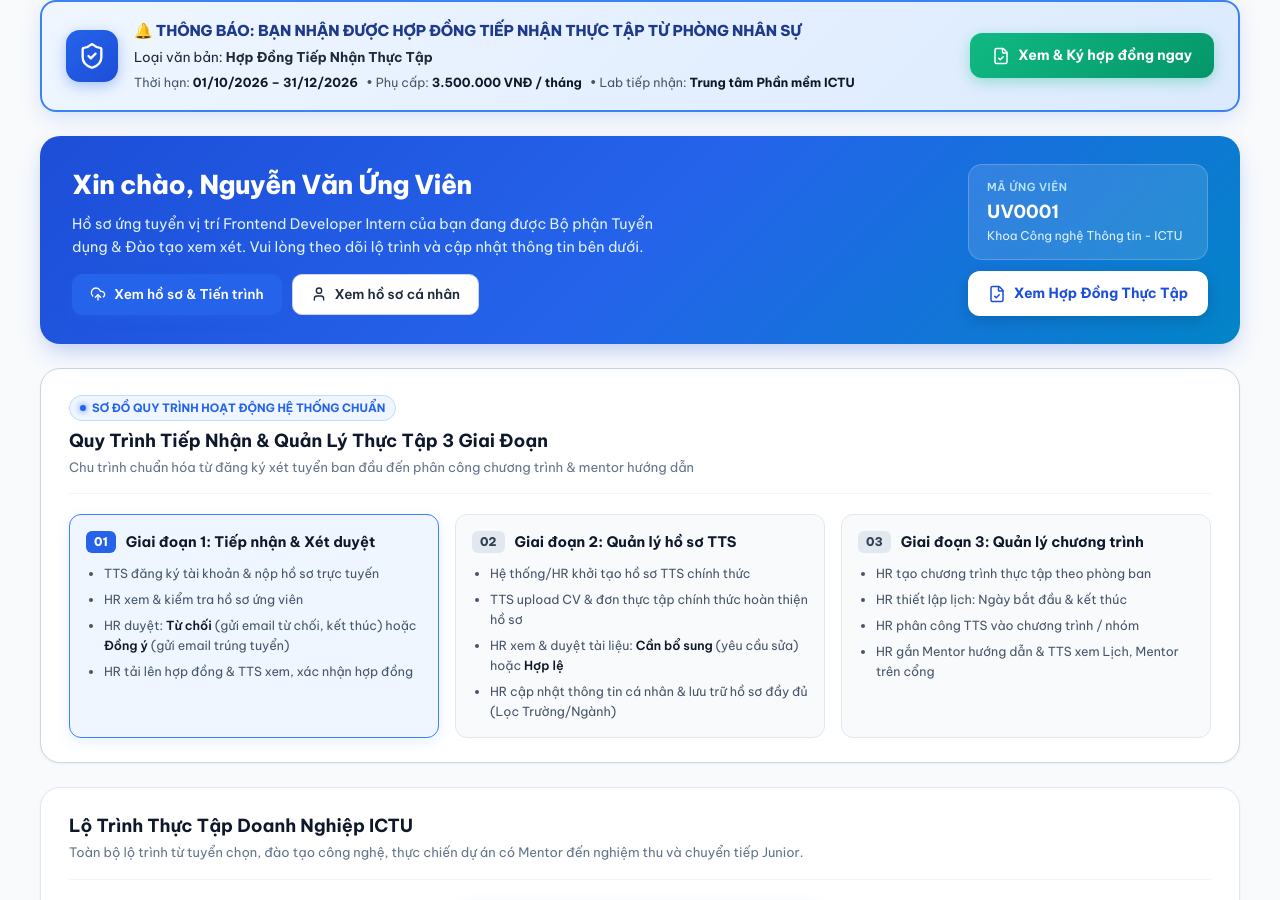
InternApplicantPages Test Suite › 2. InternApplicantDashboard Component › hiển thị Banner Thông báo hợp đồng khi có hợp đồng chờ ký từ HR
The width and height of the screenshot is (1280, 900).
Expected: the heading "THÔNG BÁO: BẠN NHẬN ĐƯỢC HỢP ĐỒNG TIẾP NHẬN THỰC TẬP TỪ PHÒNG NHÂN SỰ" is shown, [134,21,801,40]
What coordinates should you click on to do the following:
click the button "Xem & Ký hợp đồng ngay"
I would click on:
 (1092, 56)
Its box is [970,33,1214,78].
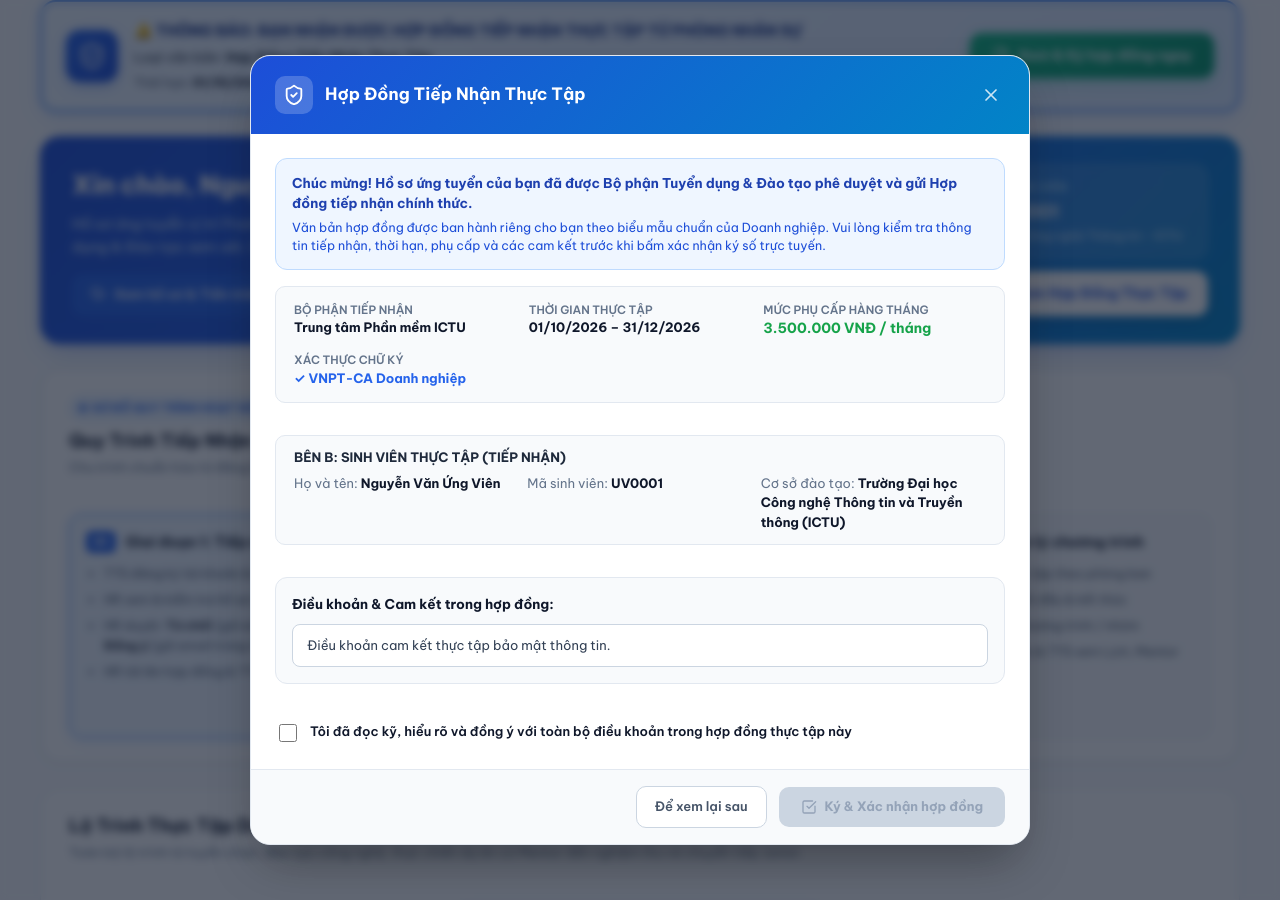
Now the text "BÊN B: SINH VIÊN THỰC TẬP (TIẾP NHẬN)" is shown, box [294,449,566,465]
Now the text "Điều khoản cam kết thực tập bảo mật thông tin." is shown, box [292,624,988,667]
